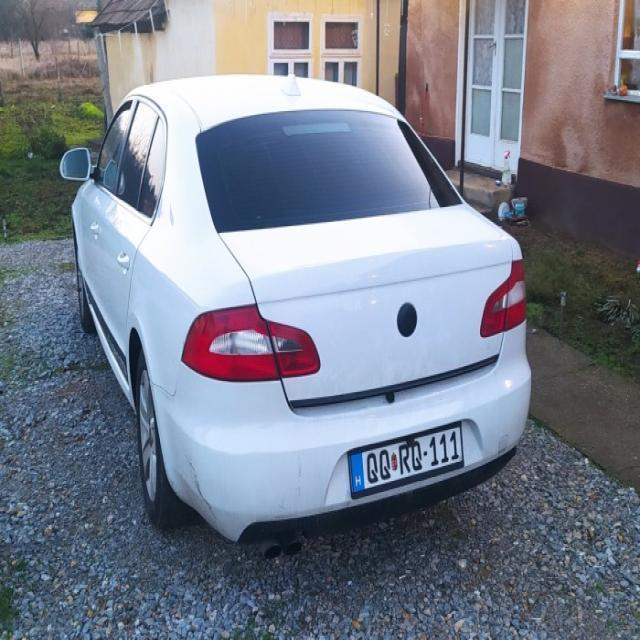licence: (348, 418, 465, 502)
